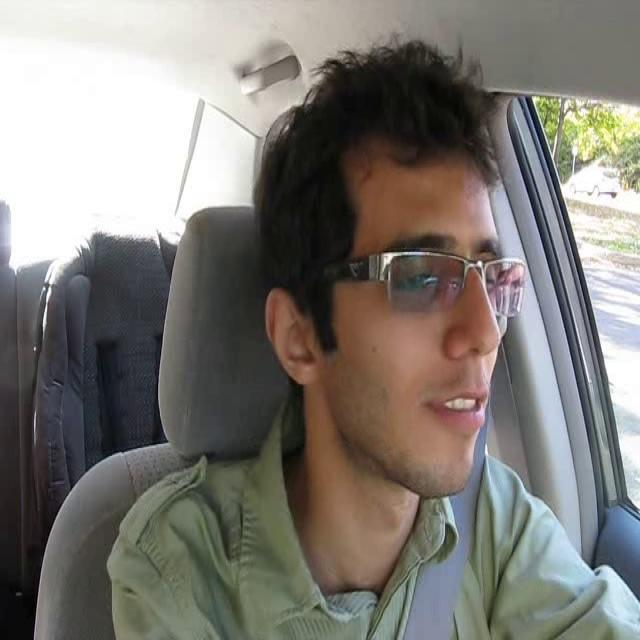close: (422, 379, 492, 434)
